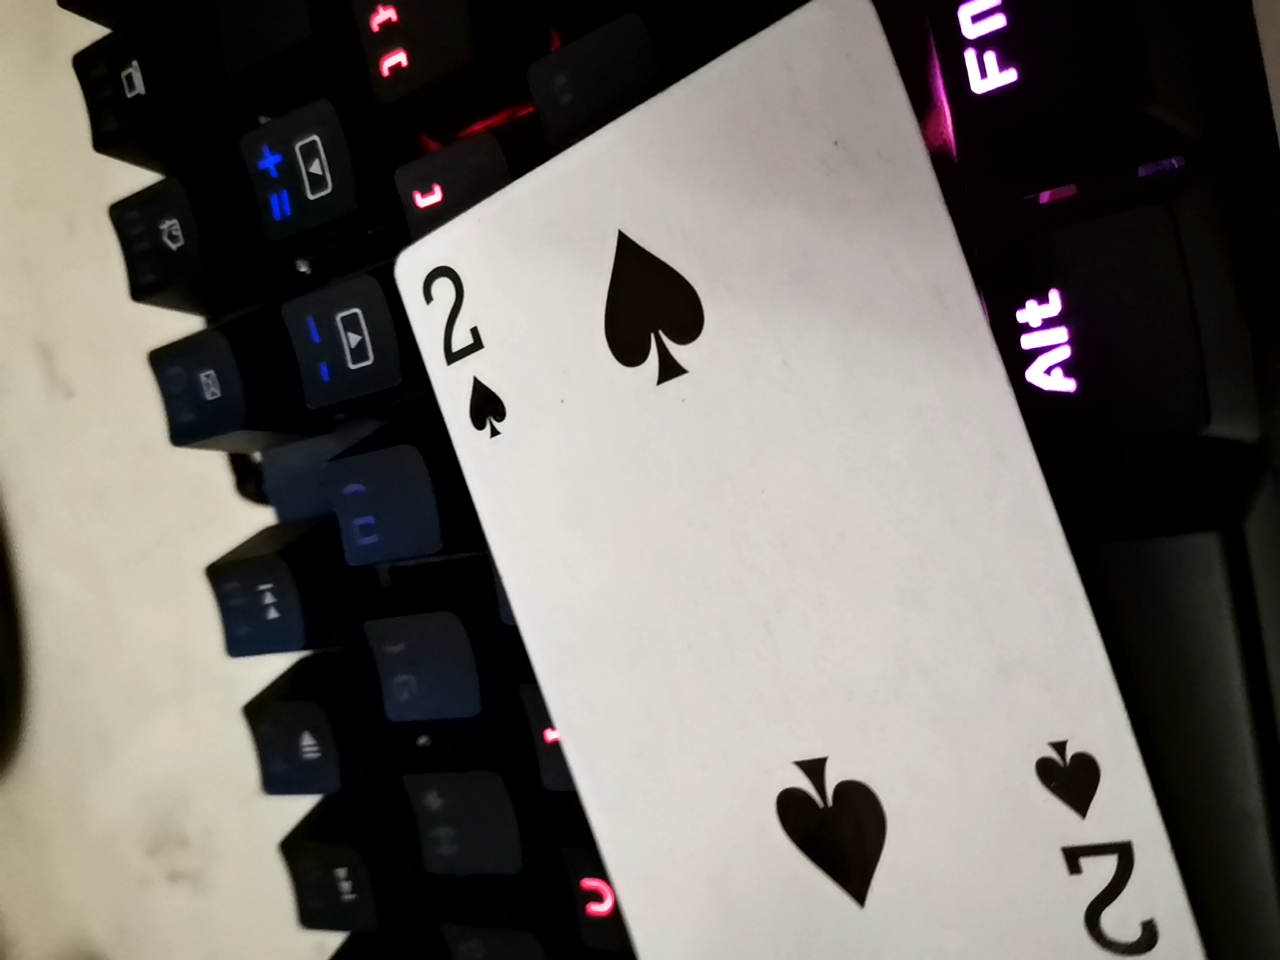ht 2: (395, 3, 1157, 952)
